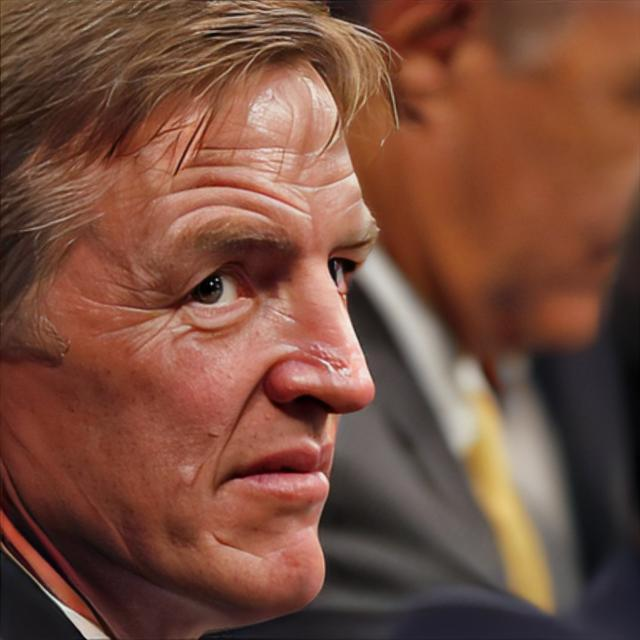anger: (44, 64, 384, 613)
